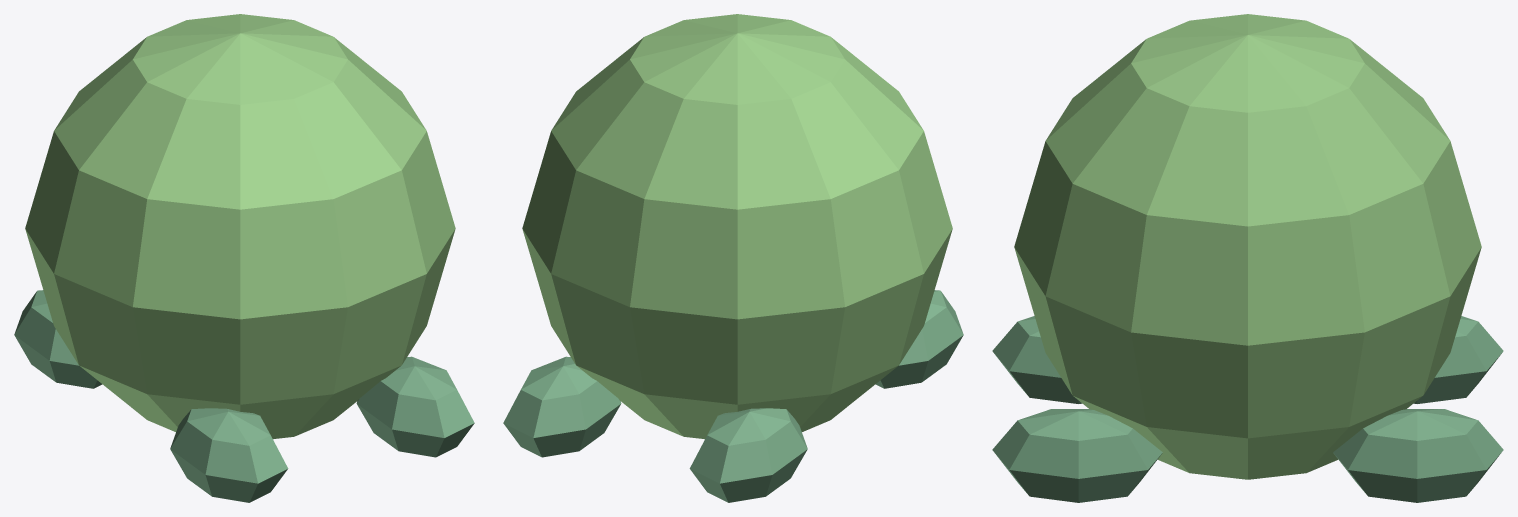
The model's file is oruga_segmento.glb.
The picture shows the model from 3 angles, left to right: view 1: azimuth 30°, elevation 25°; view 2: azimuth 150°, elevation 25°; view 3: azimuth 270°, elevation 25°; orthographic projection. The views are drawn at different scales.
Visible parts, largest first — view 1: oruga_segmento; view 2: oruga_segmento; view 3: oruga_segmento.
Boxes of the visible parts, x1=… form: oruga_segmento: x1=14, y1=14, x2=474, y2=502; oruga_segmento: x1=503, y1=14, x2=963, y2=502; oruga_segmento: x1=992, y1=14, x2=1503, y2=502.
Bounding box in the file's own units: 0.58 × 0.58 × 0.6345.
